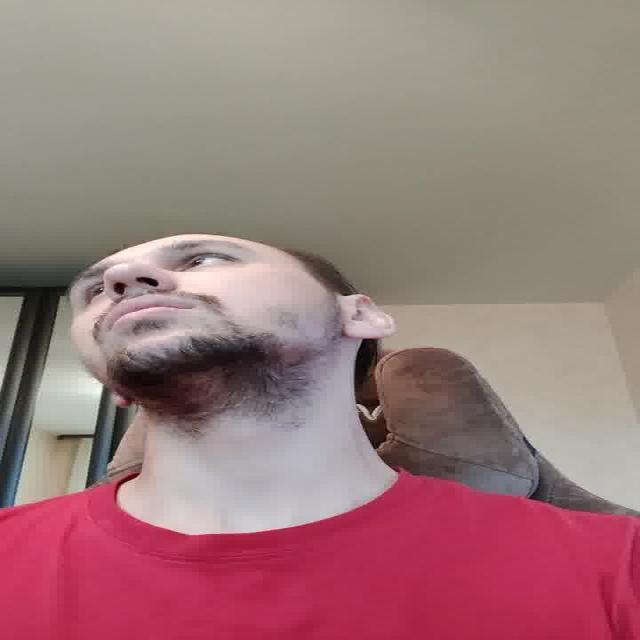earlobe: (341, 326, 392, 340), (112, 394, 134, 408)
eye: (175, 255, 241, 270), (80, 282, 108, 302)
nose: (105, 281, 180, 299)
wholeear: (339, 294, 395, 341)
